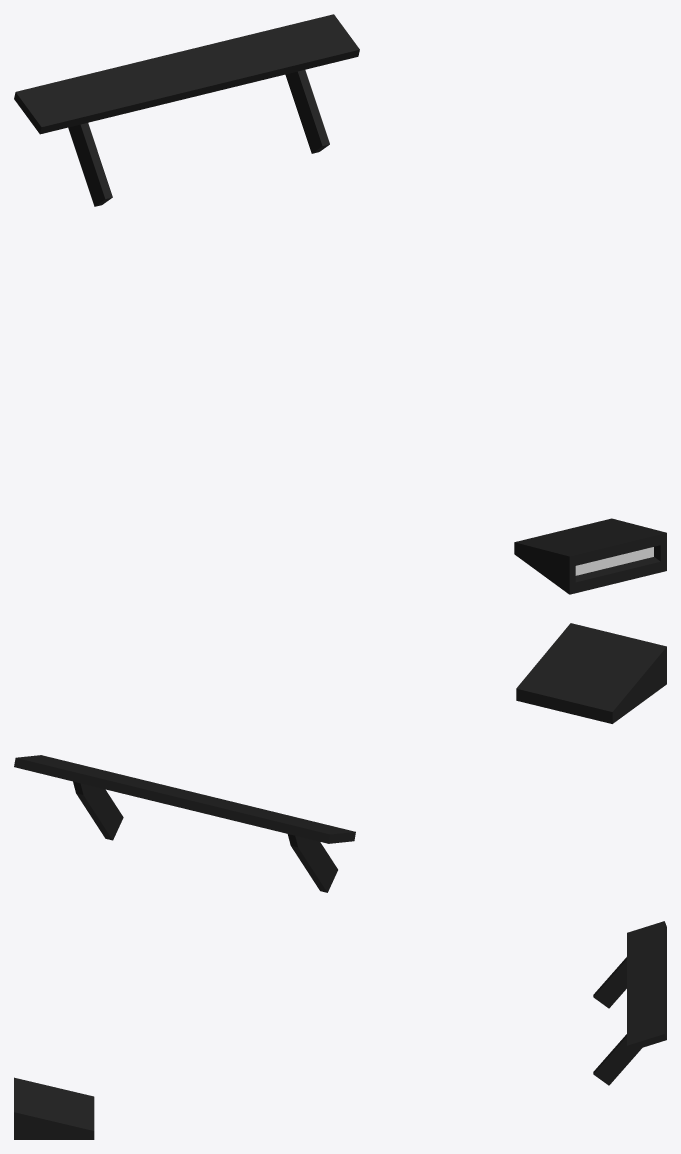
Rendered from spoiler4.glb.
The picture shows the model from 3 angles, top to bottom: view 1: azimuth 30°, elevation 25°; view 2: azimuth 150°, elevation 25°; view 3: azimuth 270°, elevation 25°; orthographic projection. The views are drawn at different scales.
Visible parts, largest first — view 1: spoiler4; view 2: spoiler4; view 3: spoiler4.
Part boxes in pixels (x1,y1,x2,y2): spoiler4: [14, 14, 666, 594]; spoiler4: [14, 623, 666, 892]; spoiler4: [14, 921, 666, 1139].
Size of the model in its own units: 2.63 by 1.59 by 6.43.
Materials: 1 (1 with a texture image).
